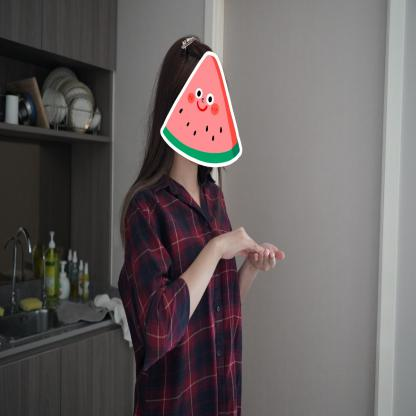Love: (195, 224, 292, 290)
